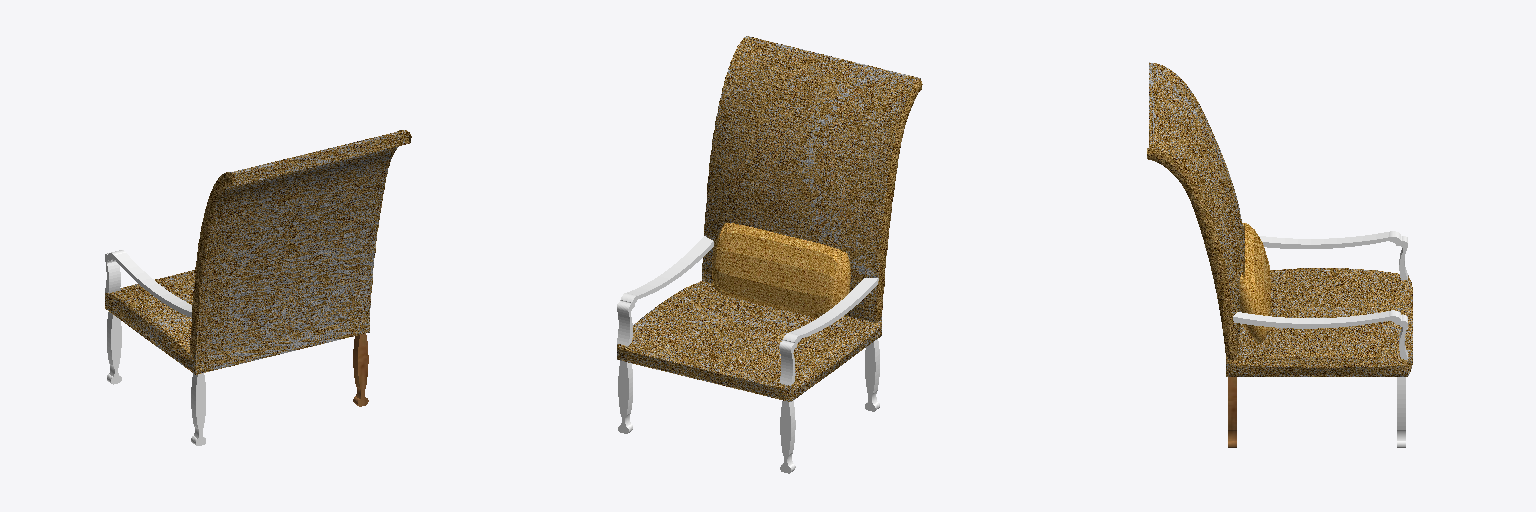
The picture shows the model from 3 angles: view 1: azimuth 30°, elevation 25°; view 2: azimuth 150°, elevation 25°; view 3: azimuth 270°, elevation 25°; orthographic projection.
Parts seen in each view (by area): view 1: group_2_ID24, group_2_ID79, Group_3_ID122, group_3_ID94, group_2_ID63, Group_3_ID133; view 2: group_2_ID24, group_4_ID107, Group_3_ID122, group_3_ID94, group_1_ID4, group_2_ID63; view 3: group_2_ID24, group_2_ID42, group_4_ID107, group_1_ID4, group_3_ID94, Group_3_ID122, Group_3_ID133.
Part boxes in pixels (x1,y1,x2,y2): group_2_ID24: (105,130,407,374); group_2_ID79: (234,132,408,185); Group_3_ID122: (107,312,205,445); group_3_ID94: (105,250,191,317); group_2_ID63: (190,172,233,356); Group_3_ID133: (353,334,368,406); group_2_ID24: (617,36,919,401); group_4_ID107: (712,223,850,317); Group_3_ID122: (618,339,879,473); group_3_ID94: (779,278,878,385); group_1_ID4: (617,236,713,345); group_2_ID63: (877,79,922,322); group_2_ID24: (1149,62,1412,376); group_2_ID42: (1147,148,1236,359); group_4_ID107: (1239,223,1270,342); group_1_ID4: (1233,310,1407,359); group_3_ID94: (1259,231,1407,280); Group_3_ID122: (1397,377,1405,447); Group_3_ID133: (1228,377,1236,447).
Size of the model in its own units: 0.45 by 0.6971 by 0.5555.
8 materials, 4 textured.